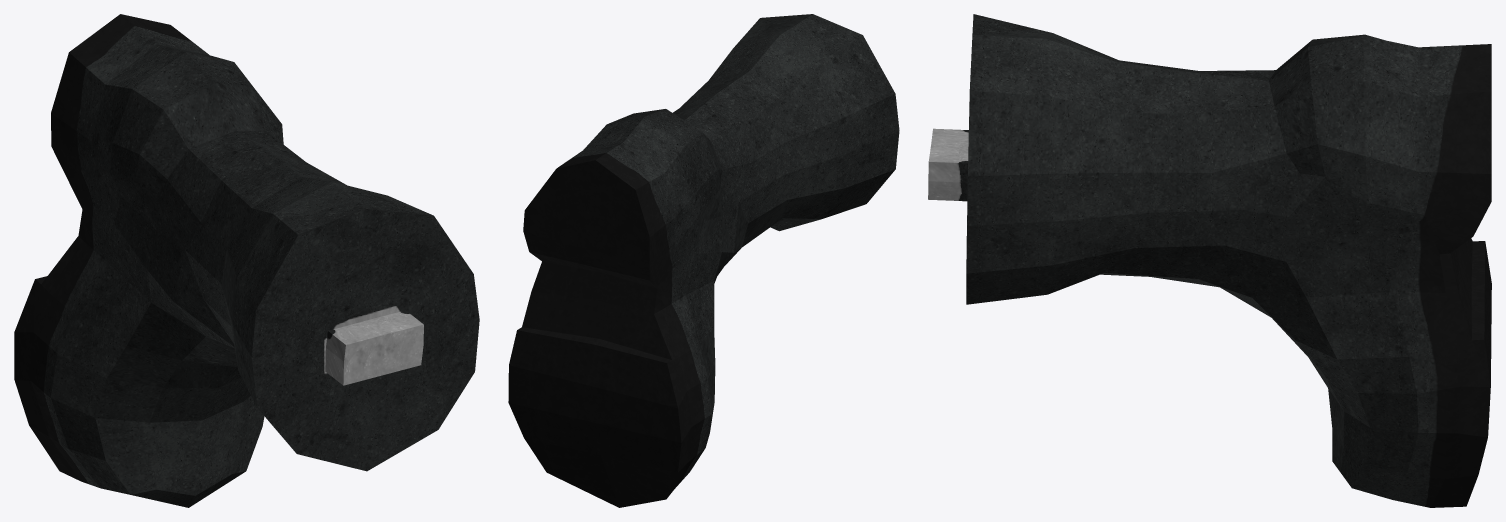
Rendered from RunGun_Stock.fbx.
The picture shows the model from 3 angles, left to right: view 1: azimuth 30°, elevation 25°; view 2: azimuth 150°, elevation 25°; view 3: azimuth 270°, elevation 25°; orthographic projection. The views are drawn at different scales.
Visible parts, largest first — view 1: Run@Gun stock; view 2: Run@Gun stock; view 3: Run@Gun stock.
Part boxes in pixels (x1=…): Run@Gun stock: x1=14, y1=14, x2=479, y2=507; Run@Gun stock: x1=508, y1=14, x2=899, y2=507; Run@Gun stock: x1=928, y1=14, x2=1491, y2=507.
Bounding box in the file's own units: 146 × 270 × 294.
